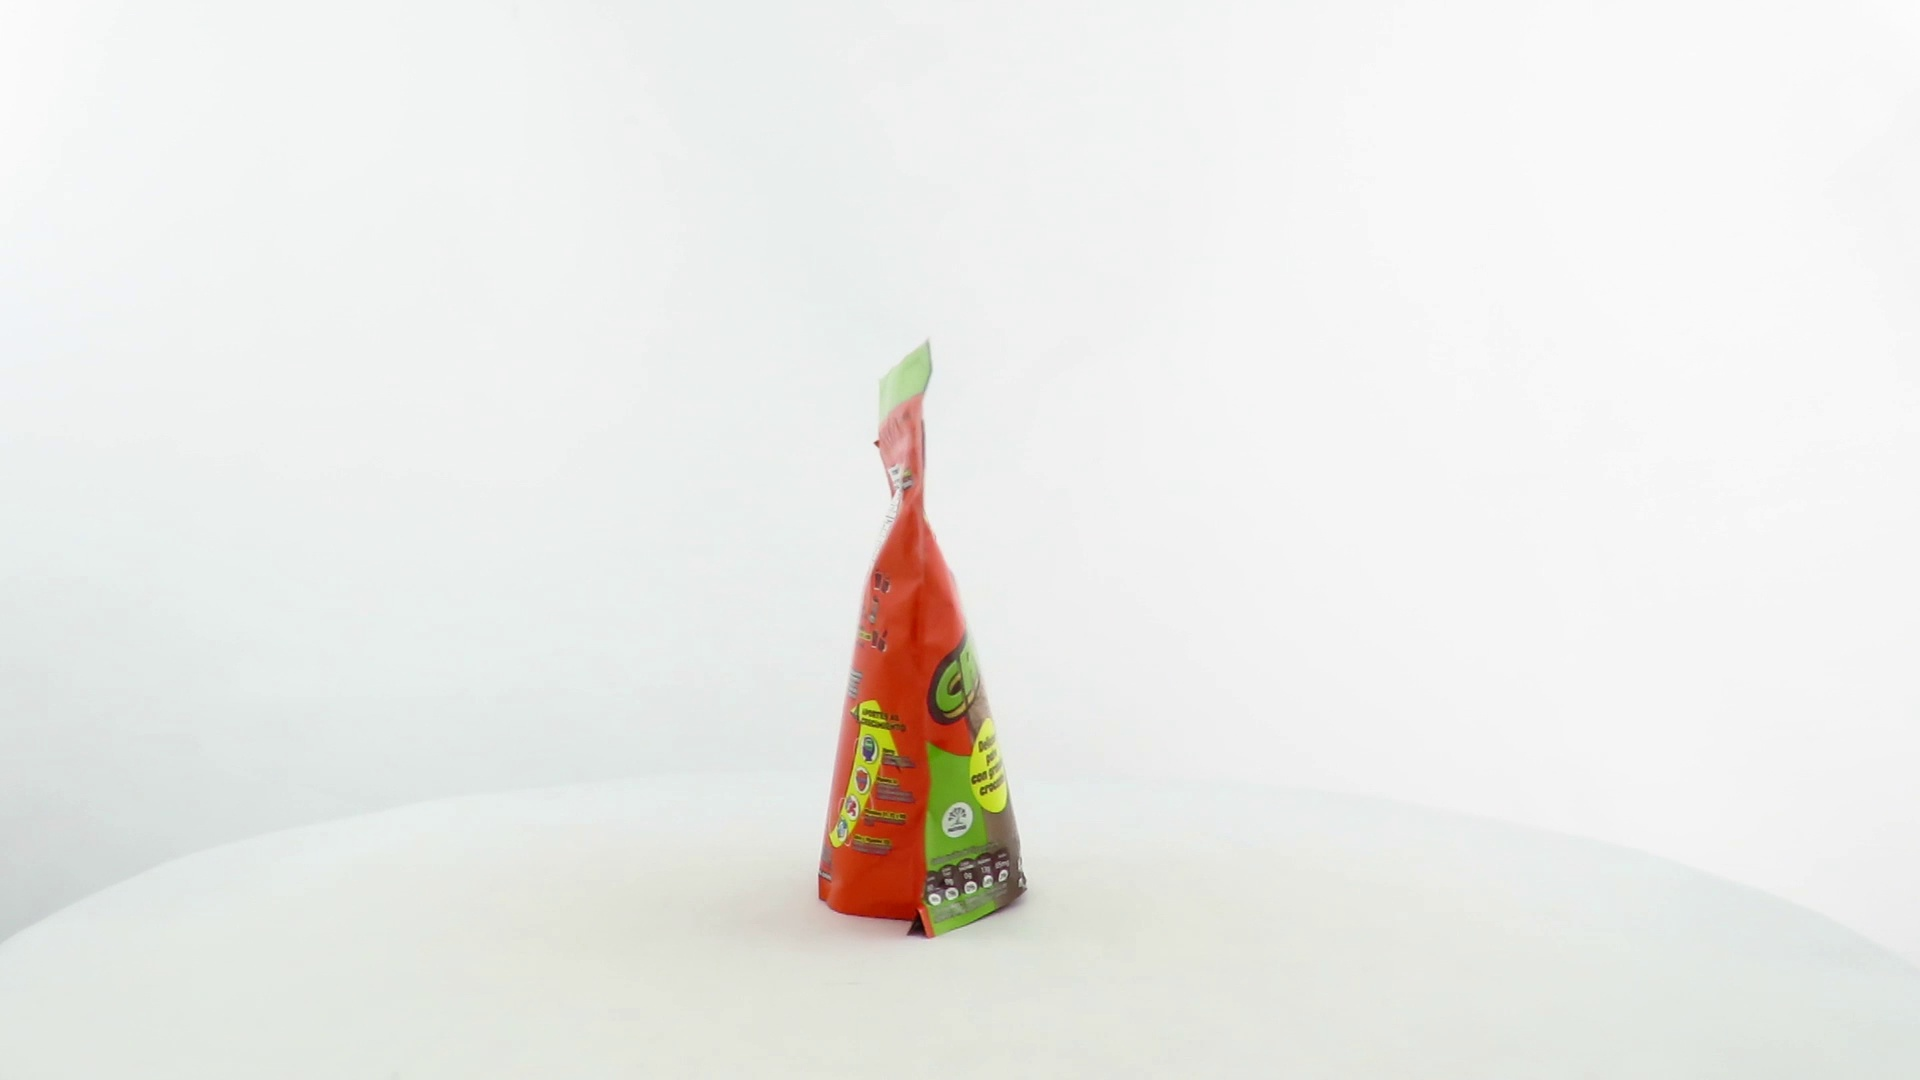COL0170102DYP10000: (814, 334, 1033, 945)
